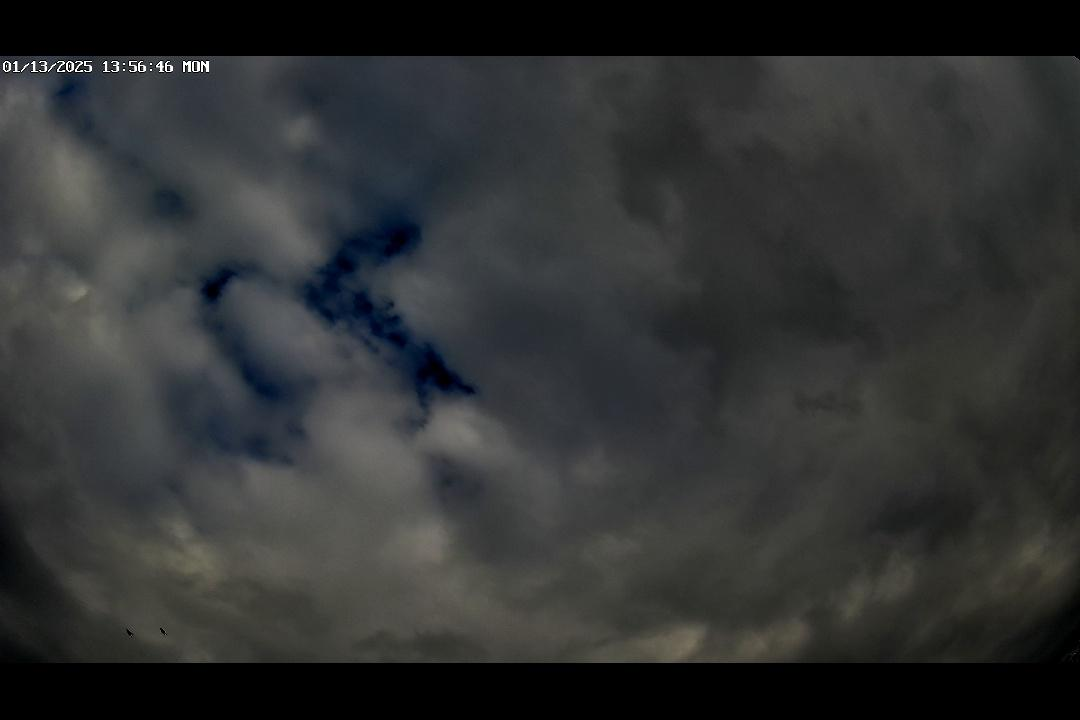WildLife: (106, 622, 153, 640), (155, 622, 172, 643)
